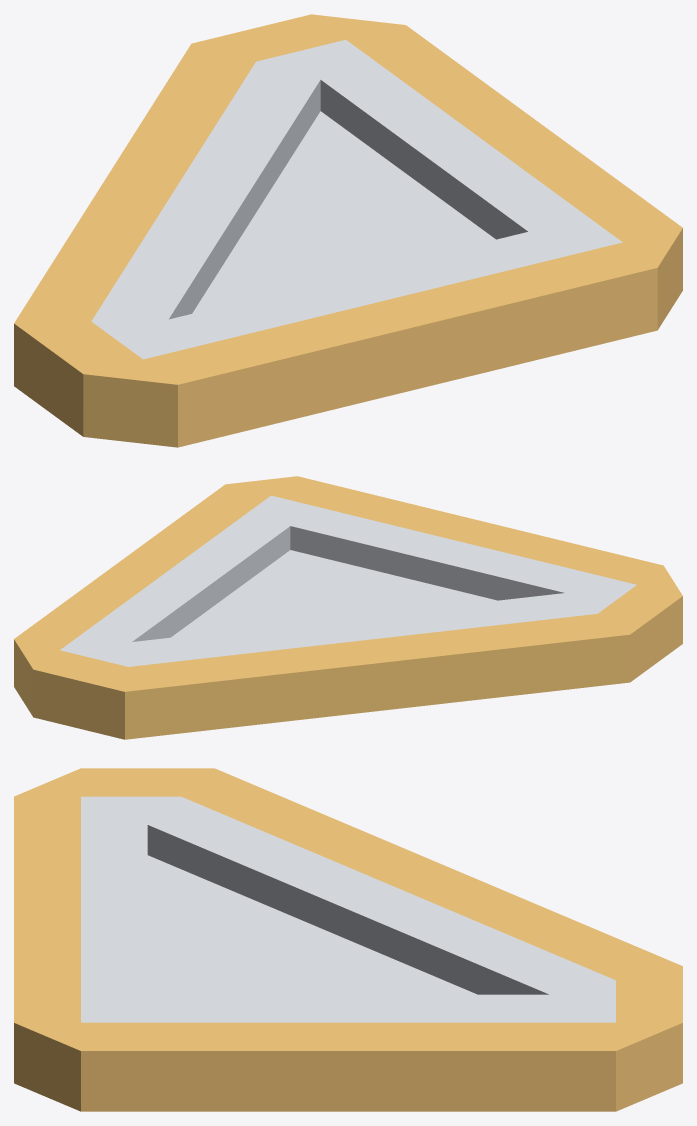
File: platform_smallDiagonal.glb
3 views of the same model, one above another, from view 1: azimuth 30°, elevation 25°; view 2: azimuth 150°, elevation 25°; view 3: azimuth 270°, elevation 25° (orthographic). The views are drawn at different scales.
Visible parts, largest first — view 1: platform_smallDiagonal; view 2: platform_smallDiagonal; view 3: platform_smallDiagonal.
Boxes of the visible parts, x1,y1,x2,y2 form: platform_smallDiagonal: [14, 14, 682, 447]; platform_smallDiagonal: [14, 476, 682, 739]; platform_smallDiagonal: [14, 768, 682, 1111].
Bounding box in the file's own units: 1 × 0.1 × 1.
